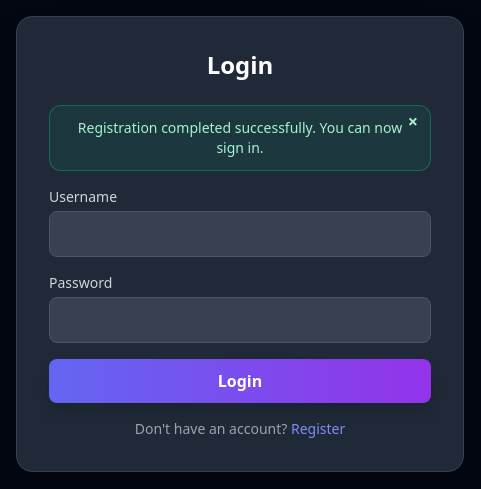
Test case: LoginPage › registered message can be dismissed with close button
This screenshot has width=481, height=489.
Click the button "×" at {"x": 413, "y": 121}, box top-left (408, 112), bottom-right (418, 130)
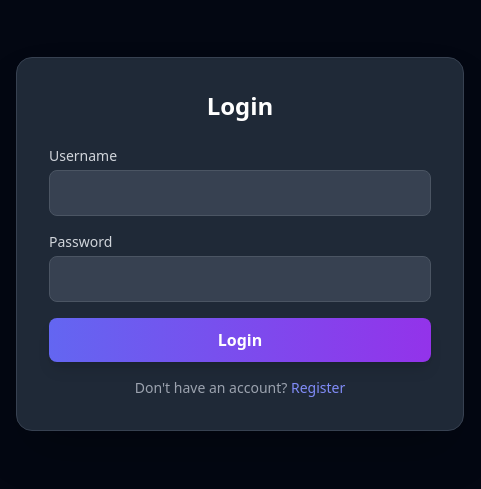
Check: the text "Registration completed successfully. You can now sign in." is gone
